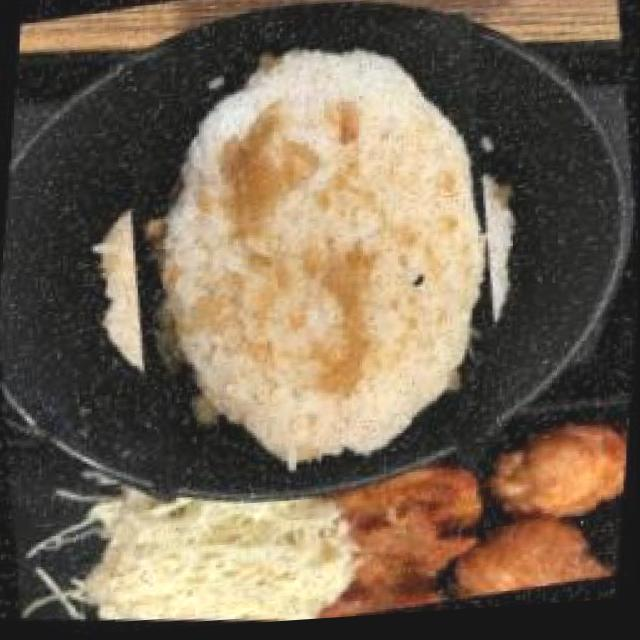rice: (70, 4, 553, 509)
